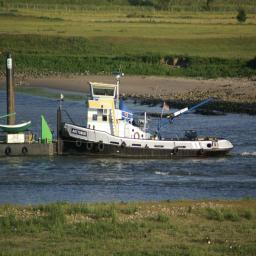tugboat: (57, 74, 236, 165)
